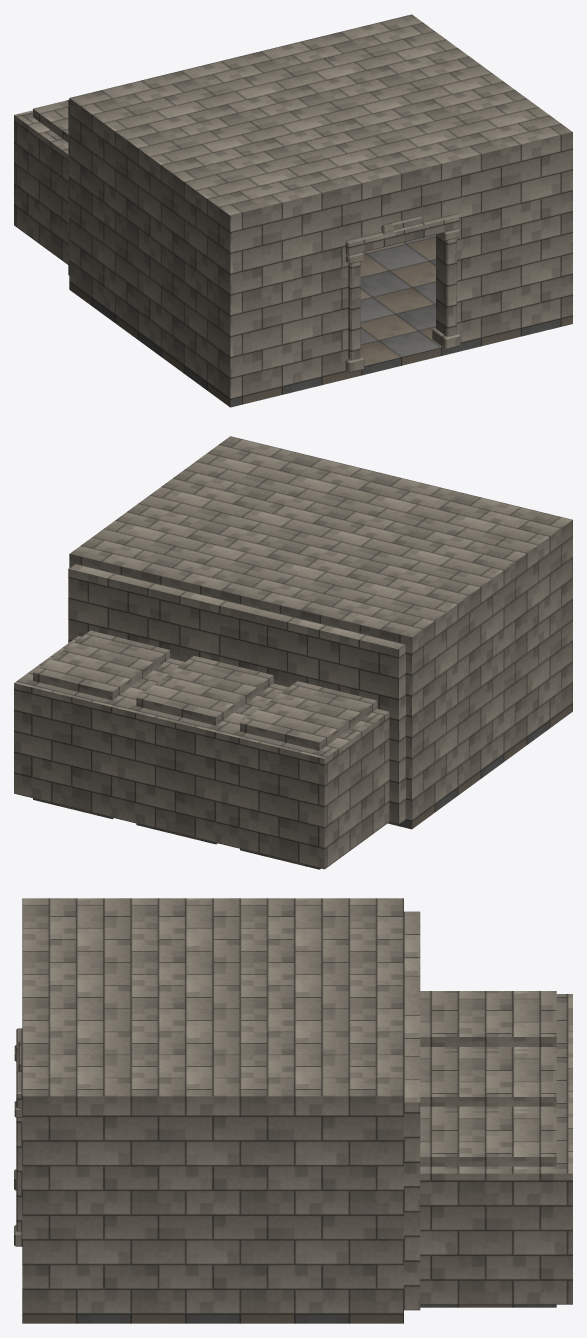
Rendered from MOD_RoomChoise3.fbx.
3 views of the same model, one above another, from view 1: azimuth 30°, elevation 25°; view 2: azimuth 150°, elevation 25°; view 3: azimuth 270°, elevation 25° (orthographic). The views are drawn at different scales.
Parts seen in each view (by area): view 1: Ceiling.004, Wall_Side.004, Wall_S.003, Wall_S.002, Floor.004, Stub, Portal_Frame.004, Portal_Head.004, Portal_Side_L.004, Wall_Side.005, Portal_Side_R.004; view 2: Stub, Ceiling.004, Wall_Side.004, Wall_N_L, Wall_N_R, Wall_N_Pier, Wall_N_Pier.001, Wall_N_Head, Floor.004; view 3: Ceiling.004, Wall_Side.005, Stub, Wall_N_R, Floor.004, Portal_Frame.004, Wall_N_L, Wall_N_Pier, Wall_N_Pier.001.
Boxes of the visible parts, bbox=[...] form: Ceiling.004: bbox=[69, 14, 572, 223]; Wall_Side.004: bbox=[69, 106, 242, 398]; Wall_S.003: bbox=[465, 143, 560, 341]; Wall_S.002: bbox=[242, 198, 337, 396]; Floor.004: bbox=[69, 234, 572, 407]; Stub: bbox=[14, 100, 68, 264]; Portal_Frame.004: bbox=[345, 213, 460, 372]; Portal_Head.004: bbox=[358, 171, 445, 237]; Portal_Side_L.004: bbox=[338, 193, 357, 372]; Wall_Side.005: bbox=[561, 140, 572, 318]; Portal_Side_R.004: bbox=[445, 167, 465, 342]; Stub: bbox=[14, 630, 389, 869]; Ceiling.004: bbox=[69, 436, 572, 645]; Wall_Side.004: bbox=[406, 528, 572, 820]; Wall_N_L: bbox=[317, 624, 405, 824]; Wall_N_R: bbox=[68, 564, 156, 644]; Wall_N_Pier: bbox=[257, 610, 323, 687]; Wall_N_Pier.001: bbox=[150, 584, 216, 661]; Wall_N_Head: bbox=[209, 598, 263, 671]; Floor.004: bbox=[388, 703, 572, 829]; Ceiling.004: bbox=[22, 898, 403, 1106]; Wall_Side.005: bbox=[22, 1106, 403, 1313]; Stub: bbox=[420, 991, 572, 1307]; Wall_N_R: bbox=[404, 1055, 420, 1310]; Floor.004: bbox=[22, 1314, 403, 1323]; Portal_Frame.004: bbox=[14, 1028, 22, 1246]; Wall_N_L: bbox=[404, 911, 420, 958]; Wall_N_Pier: bbox=[404, 958, 420, 993]; Wall_N_Pier.001: bbox=[404, 1021, 420, 1055].
Bounding box in the file's own units: 860 × 460 × 1025.
